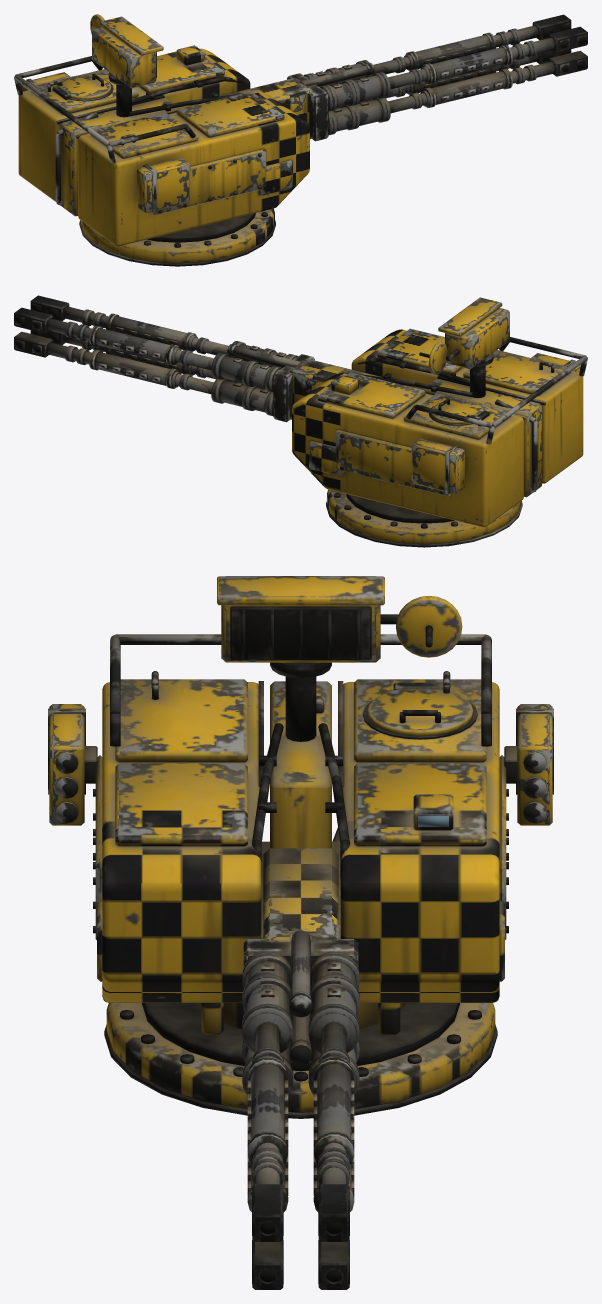
The model's file is turret_kit_quad_chequer.glb.
3 renders of one model, top to bottom at view 1: azimuth 30°, elevation 25°; view 2: azimuth 150°, elevation 25°; view 3: azimuth 270°, elevation 25°, orthographic. The views are drawn at different scales.
Visible parts, largest first — view 1: turret_twin_quad, guns, pods; view 2: turret_twin_quad, guns, pods; view 3: turret_twin_quad, guns, pods.
Part boxes in pixels (x1=…): turret_twin_quad: x1=14, y1=14, x2=309, y2=266; guns: x1=220, y1=14, x2=587, y2=141; pods: x1=20, y1=72, x2=190, y2=213; turret_twin_quad: x1=292, y1=297, x2=587, y2=547; guns: x1=14, y1=295, x2=382, y2=422; pods: x1=411, y1=353, x2=581, y2=494; turret_twin_quad: x1=93, y1=576, x2=508, y2=1118; guns: x1=242, y1=848, x2=359, y2=1289; pods: x1=48, y1=704, x2=553, y2=825.
Bounding box in the file's own units: 2.7 × 1.01 × 1.15.
4 materials, 3 textured.
